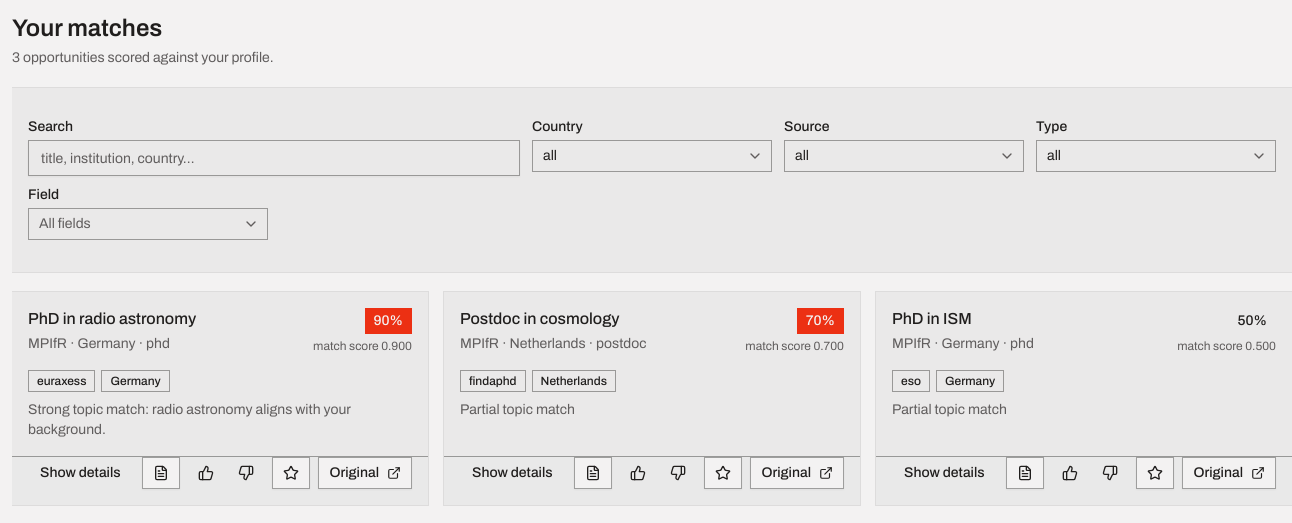
Test: DashboardPage › saves a match with the star
This screenshot has width=1292, height=523.
Click the button named "Save" below "euraxess" at {"x": 291, "y": 473}, box top-left (272, 457), bottom-right (310, 489)
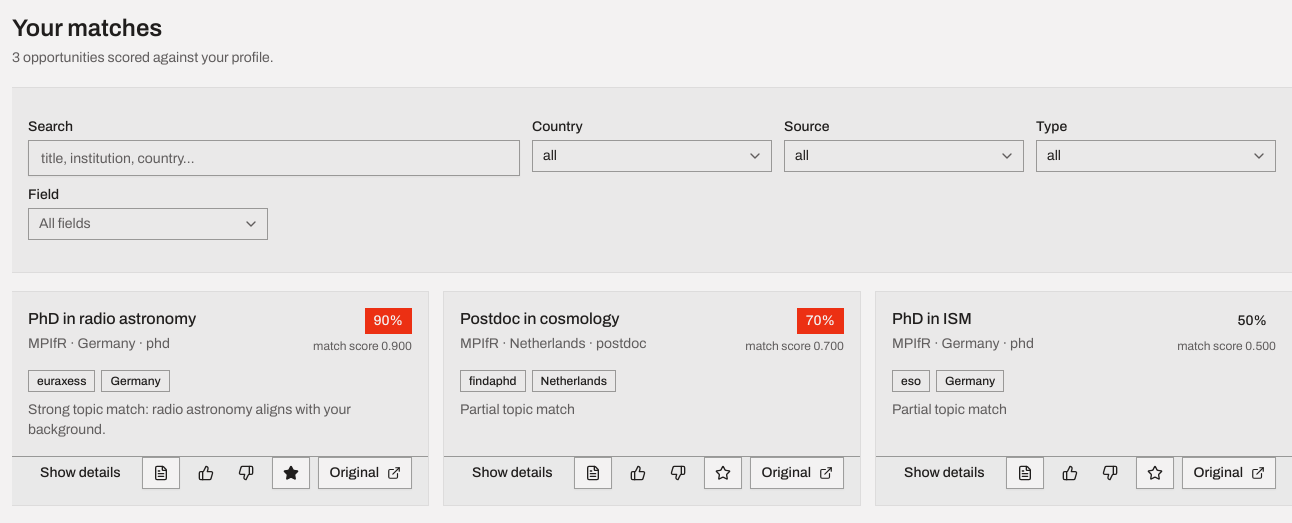
Check: the button named "Remove from saved" is shown, box top-left (272, 457), bottom-right (310, 489)
